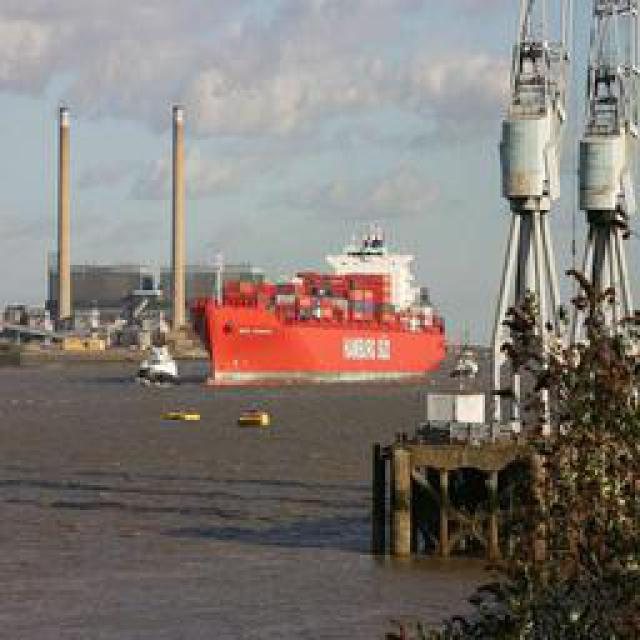Ship: (200, 218, 450, 383)
